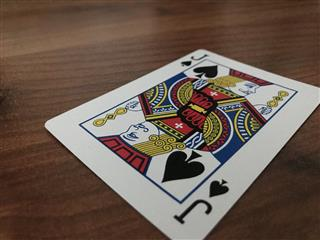JackOfSpades: (42, 47, 320, 240)
